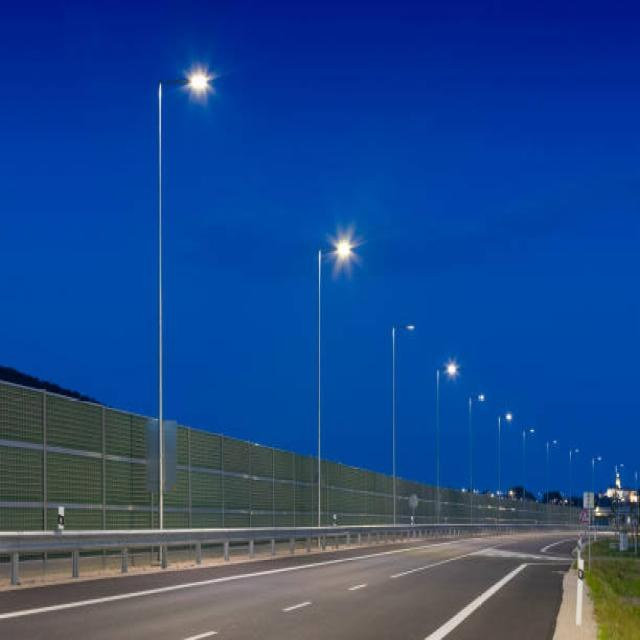acesa: (323, 225, 366, 280), (183, 64, 217, 102), (444, 359, 461, 378)
